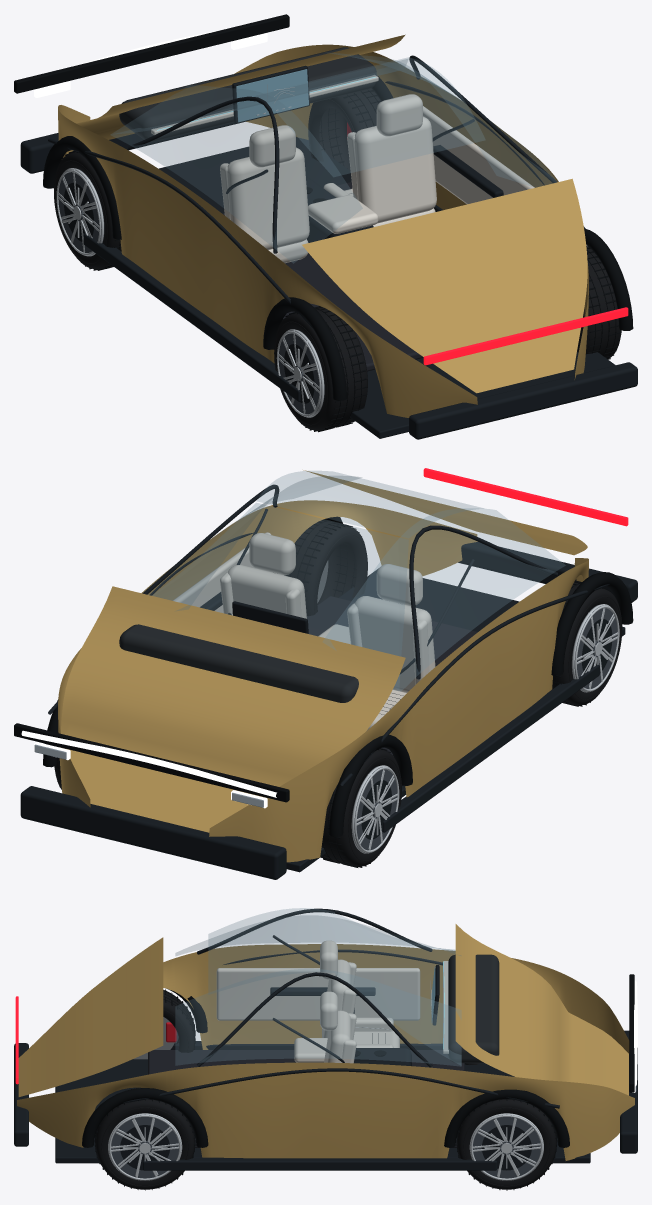
File: cybercab.glb
The picture shows the model from 3 angles, top to bottom: view 1: azimuth 30°, elevation 25°; view 2: azimuth 150°, elevation 25°; view 3: azimuth 270°, elevation 25°; orthographic projection. The views are drawn at different scales.
Visible parts, largest first — view 1: tailgate__exterior_paint, door_fl__glass, body__satin_trim, door_fl__exterior_paint, seat__interior_leather (×2), body__glass, body__exterior_paint, body__panel_seal, cabin__dashboard, wheel_rl__tire_rubber, door_fr__exterior_paint, door_fr__glass (+20 smaller); view 2: hood__exterior_paint, body__glass, body__satin_trim, door_fl__glass, door_fl__exterior_paint, body__exterior_paint, seat__interior_leather (×2), body__panel_seal, cabin__dashboard, wheel_rr__tire_rubber, door_fr__exterior_paint, door_fr__glass (+16 smaller); view 3: door_fr__exterior_paint, door_fr__glass, body__glass, hood__exterior_paint, body__exterior_paint, body__satin_trim, tailgate__exterior_paint, door_fl__exterior_paint, door_fl__interior_leather, body__panel_seal, seat__interior_leather (×2), door_fl__glass (+14 smaller).
Part boxes in pixels (box(x1,y1,x2,y2)): tailgate__exterior_paint: box(302, 178, 587, 393); door_fl__glass: box(111, 85, 362, 263); body__satin_trim: box(20, 81, 637, 439); door_fl__exterior_paint: box(103, 137, 301, 363); seat__interior_leather (×2): box(220, 94, 436, 263); body__glass: box(117, 57, 485, 176); body__exterior_paint: box(58, 44, 588, 417); body__panel_seal: box(14, 14, 633, 400); cabin__dashboard: box(119, 47, 376, 141); wheel_rl__tire_rubber: box(274, 307, 367, 430); door_fr__exterior_paint: box(398, 66, 558, 209); door_fr__glass: box(331, 53, 556, 187); hood__exterior_paint: box(60, 586, 405, 832); body__glass: box(152, 471, 483, 690); body__satin_trim: box(20, 532, 637, 879); door_fl__glass: box(323, 509, 565, 691); door_fl__exterior_paint: box(397, 568, 572, 797); body__exterior_paint: box(58, 500, 588, 862); seat__interior_leather (×2): box(220, 533, 435, 730); body__panel_seal: box(14, 516, 633, 836); cabin__dashboard: box(119, 624, 358, 702); wheel_rr__tire_rubber: box(284, 519, 367, 616); door_fr__exterior_paint: box(141, 501, 303, 600); door_fr__glass: box(142, 476, 361, 610); door_fr__exterior_paint: box(166, 1062, 467, 1158); door_fr__glass: box(175, 969, 461, 1066); body__glass: box(208, 908, 460, 1064); hood__exterior_paint: box(455, 924, 628, 1095); body__exterior_paint: box(17, 958, 634, 1160); body__satin_trim: box(14, 949, 637, 1170); tailgate__exterior_paint: box(18, 937, 163, 1096); door_fl__exterior_paint: box(166, 944, 455, 1049); door_fl__interior_leather: box(216, 968, 420, 1020); body__panel_seal: box(82, 974, 634, 1147); seat__interior_leather (×2): box(320, 940, 399, 1063); door_fl__glass: box(175, 916, 460, 955).
Size of the model in its own units: 1.9 by 1.42 by 4.14.
